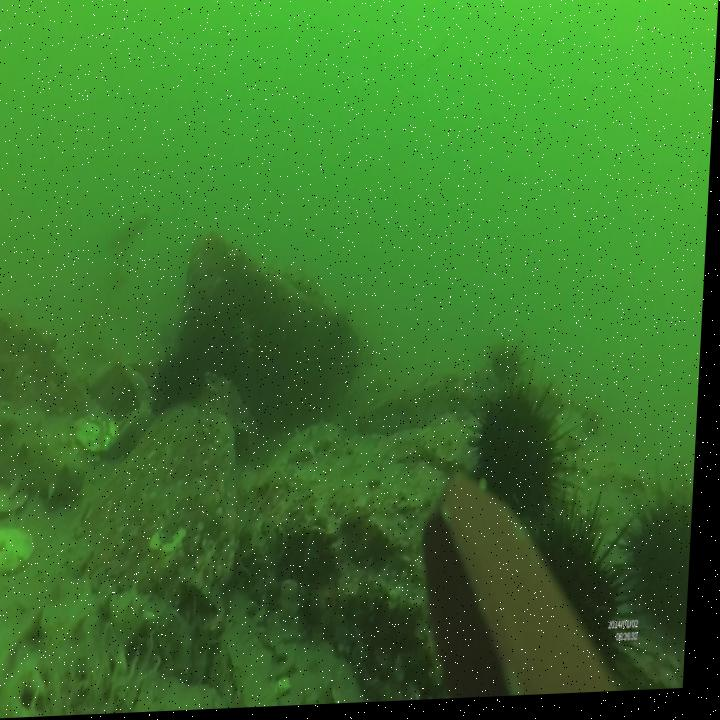echinus: (463, 368, 595, 539), (522, 504, 640, 679), (618, 479, 699, 648), (152, 342, 212, 427)
holothurian: (0, 583, 165, 720), (0, 401, 93, 504), (268, 423, 350, 486)
